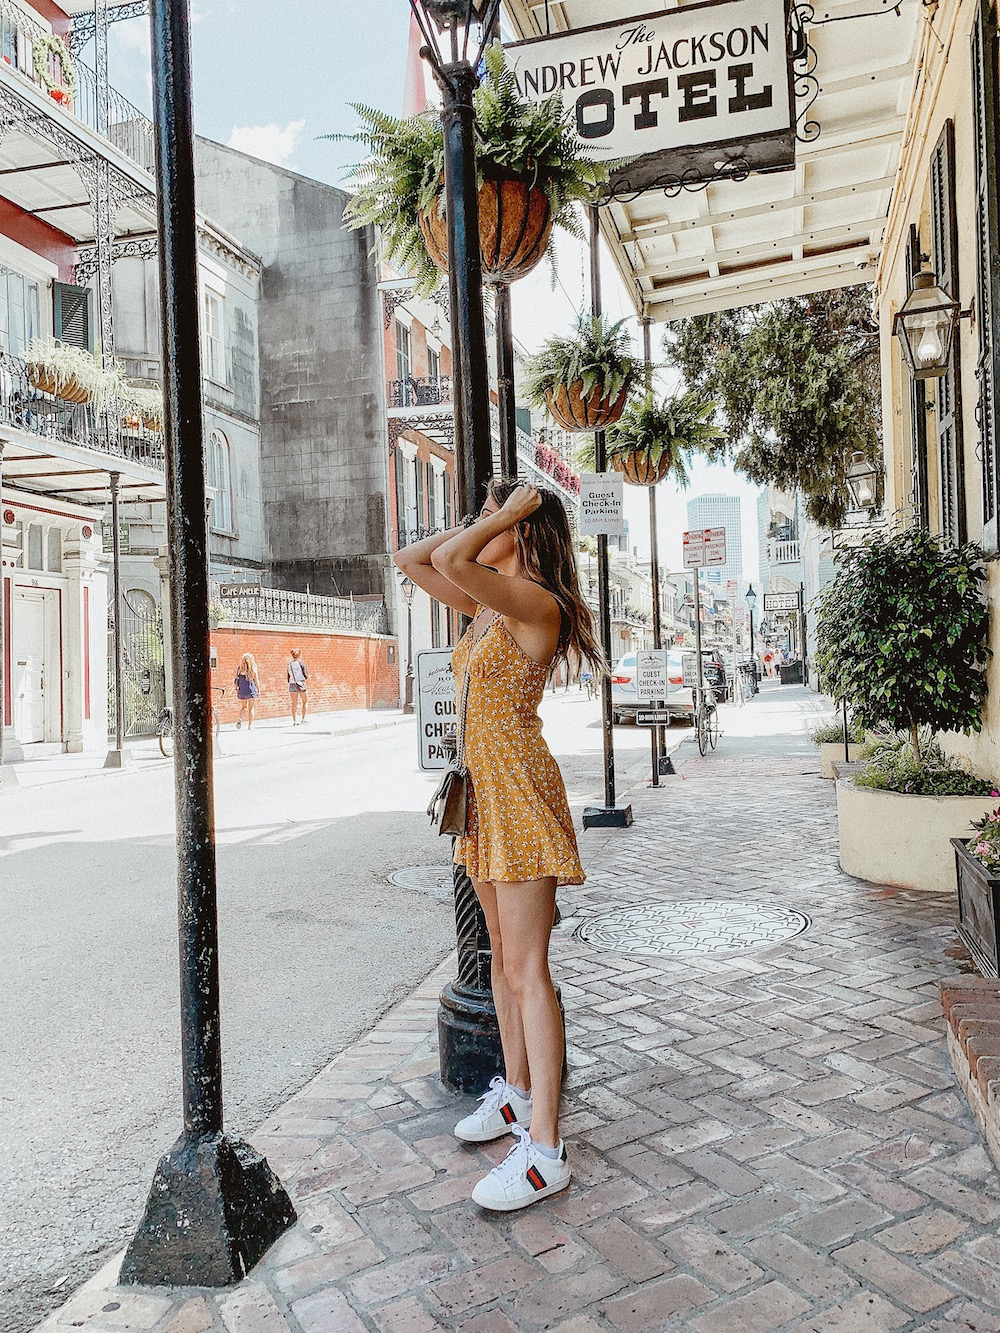car: (608, 636, 722, 747)
person: (390, 475, 640, 1227), (276, 645, 319, 723), (229, 641, 267, 729)
